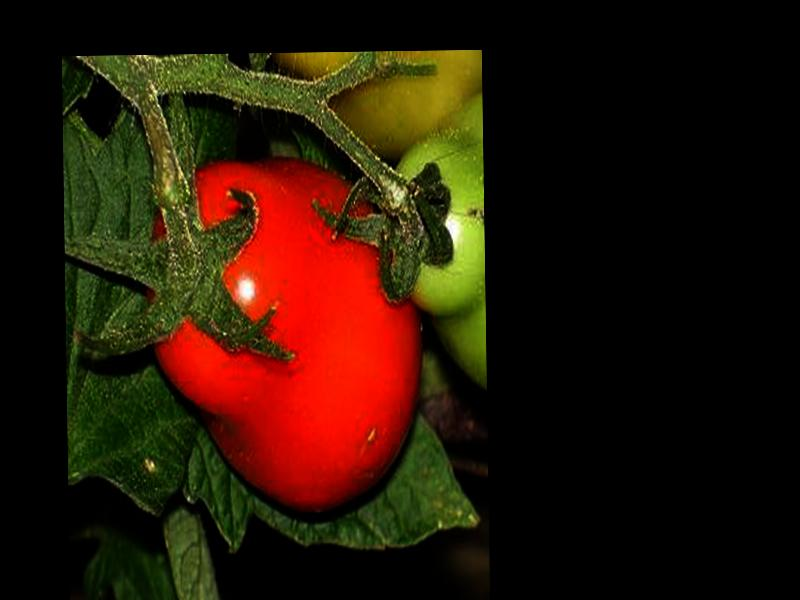Tomato: (145, 158, 423, 516)
